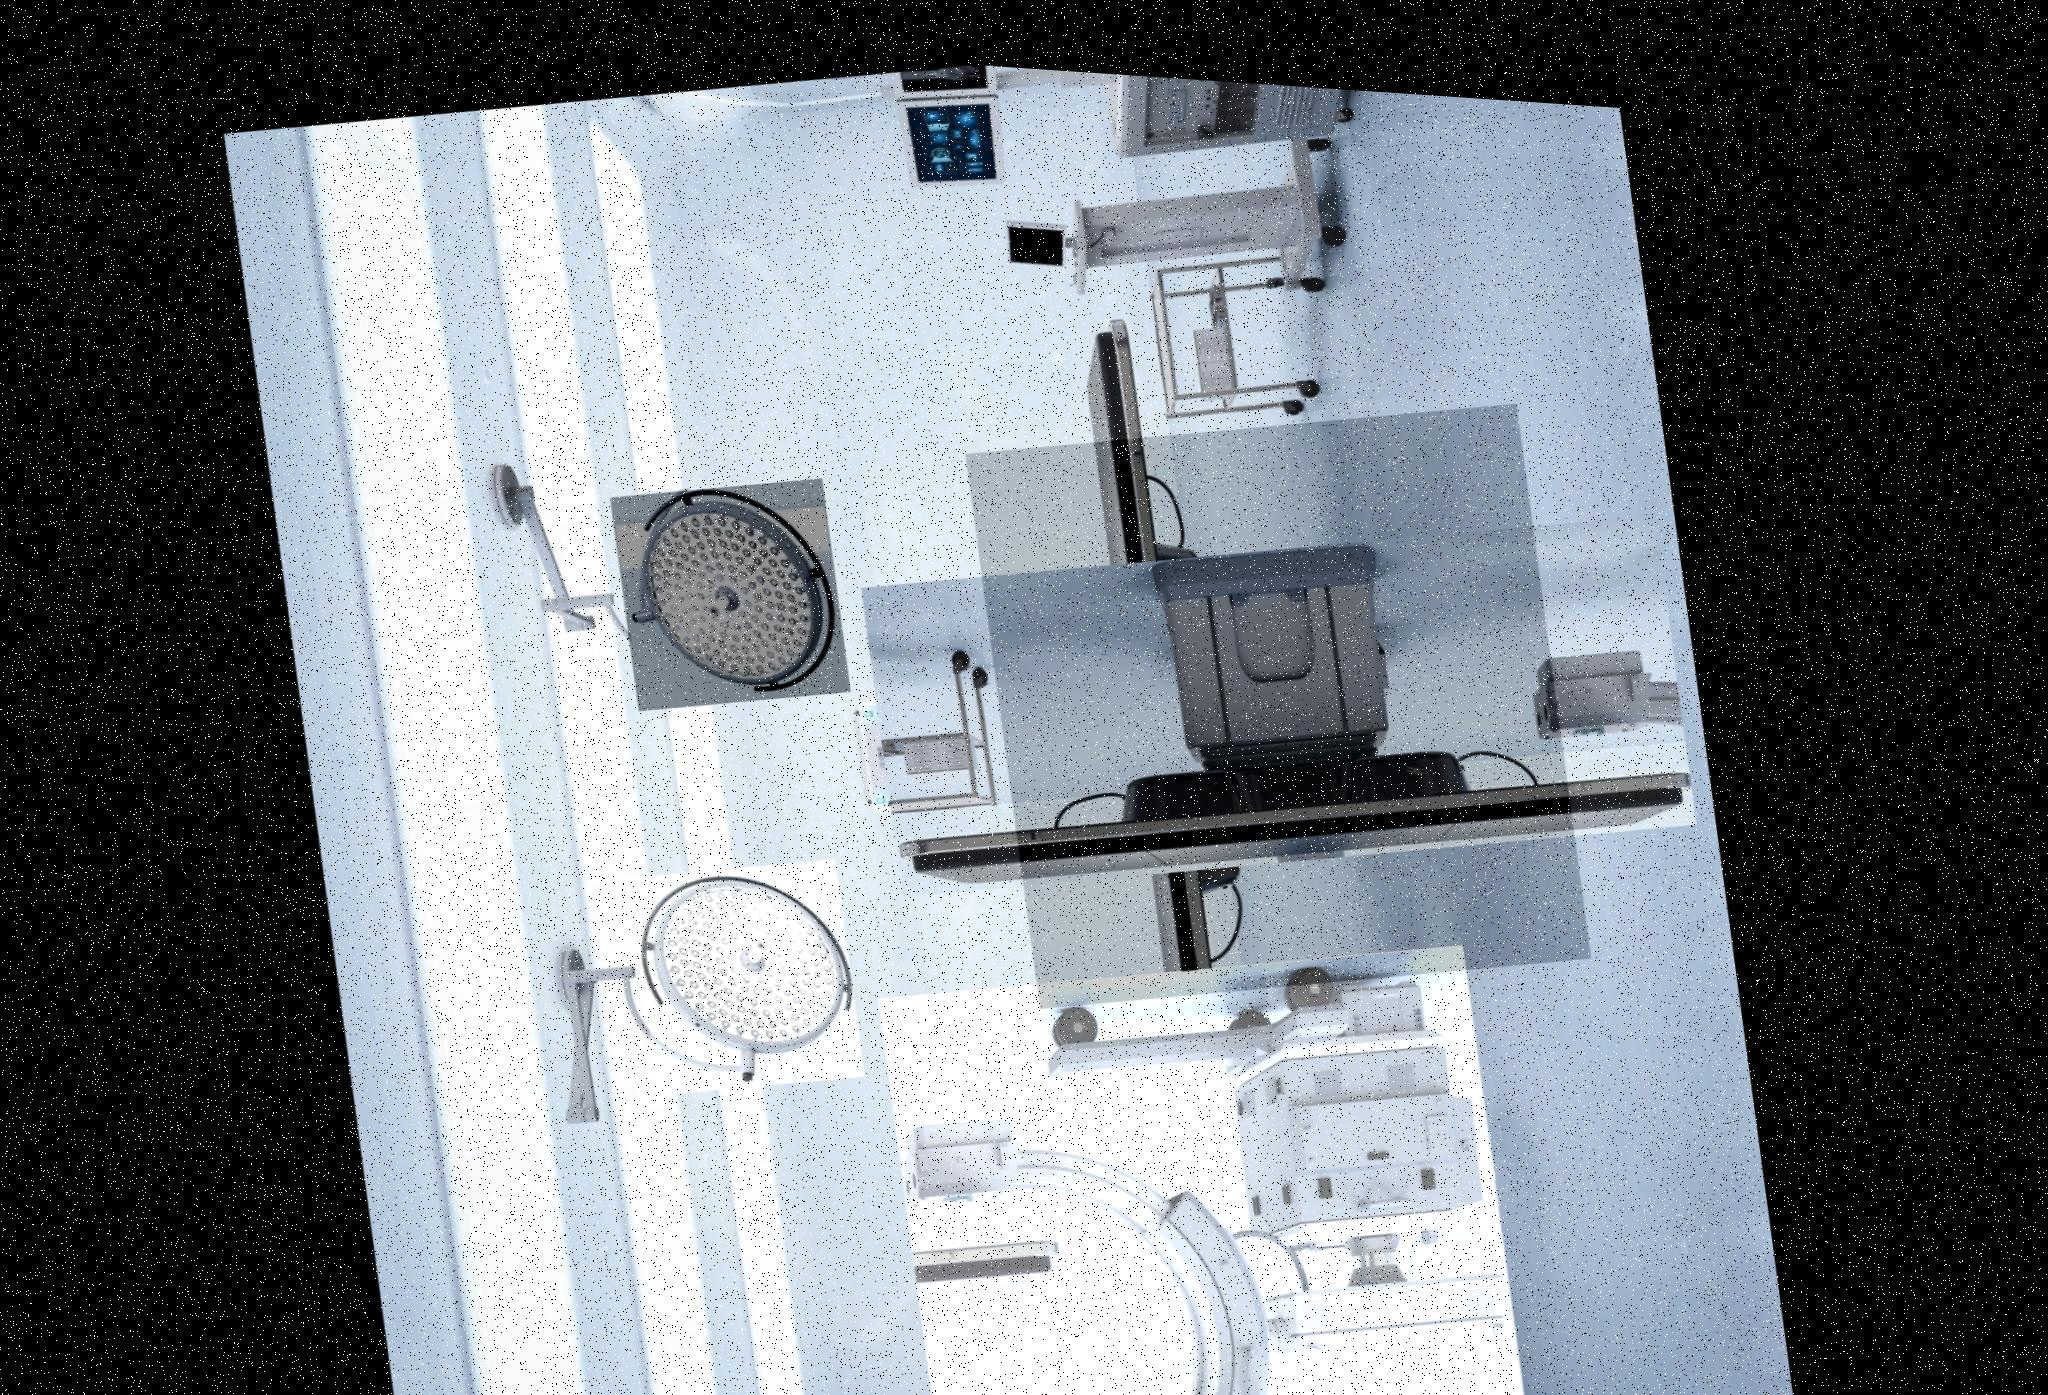Bed: (959, 352, 1604, 1021)
C_arm: (875, 891, 1542, 1395)
Light: (608, 453, 857, 712), (629, 835, 875, 1095)
